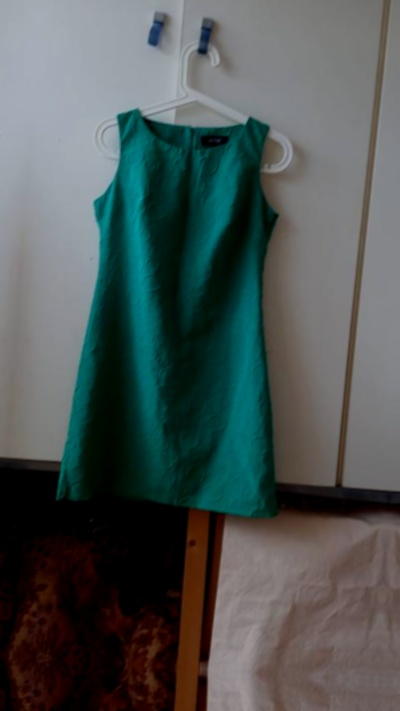Dress: (29, 70, 352, 562), (0, 45, 6, 538)
